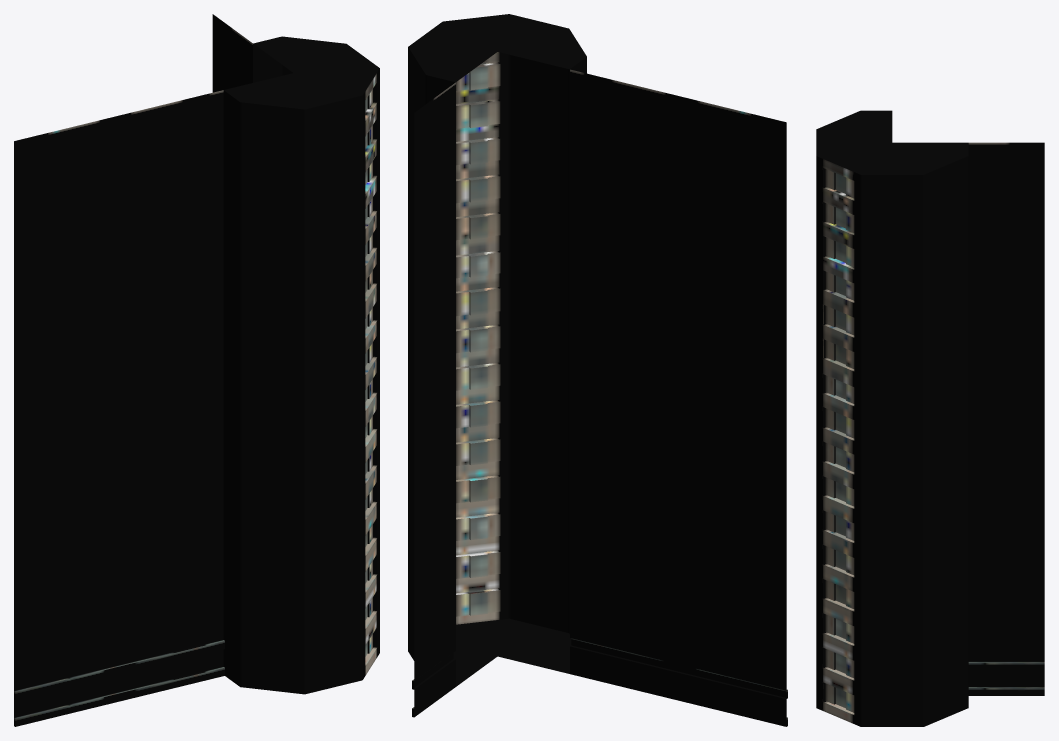
File: Pagoda_Body_Tile_Corner_Octo_2500x5000_B.FBX
The picture shows the model from 3 angles, left to right: view 1: azimuth 30°, elevation 25°; view 2: azimuth 150°, elevation 25°; view 3: azimuth 270°, elevation 25°; orthographic projection. The views are drawn at different scales.
Parts seen in each view (by area): view 1: Geometry_Pagoda_Body_Tile_Corner_Octo_2500x5000_B_LOD00; view 2: Geometry_Pagoda_Body_Tile_Corner_Octo_2500x5000_B_LOD00; view 3: Geometry_Pagoda_Body_Tile_Corner_Octo_2500x5000_B_LOD00.
Boxes of the visible parts, bbox=[...] form: Geometry_Pagoda_Body_Tile_Corner_Octo_2500x5000_B_LOD00: bbox=[14, 14, 379, 726]; Geometry_Pagoda_Body_Tile_Corner_Octo_2500x5000_B_LOD00: bbox=[408, 14, 787, 726]; Geometry_Pagoda_Body_Tile_Corner_Octo_2500x5000_B_LOD00: bbox=[816, 110, 1044, 726].
Size of what is drawn, in the model's own units: 3125 by 5000 by 1875.
